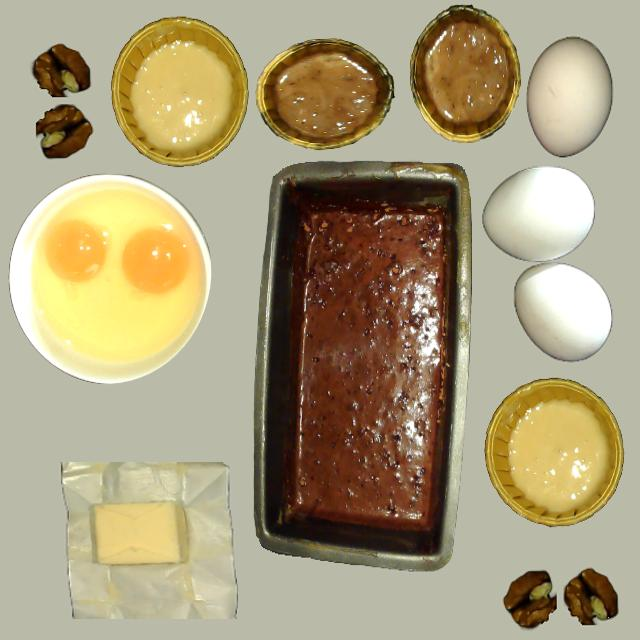Egg: (122, 227, 188, 294), (45, 220, 109, 283)
